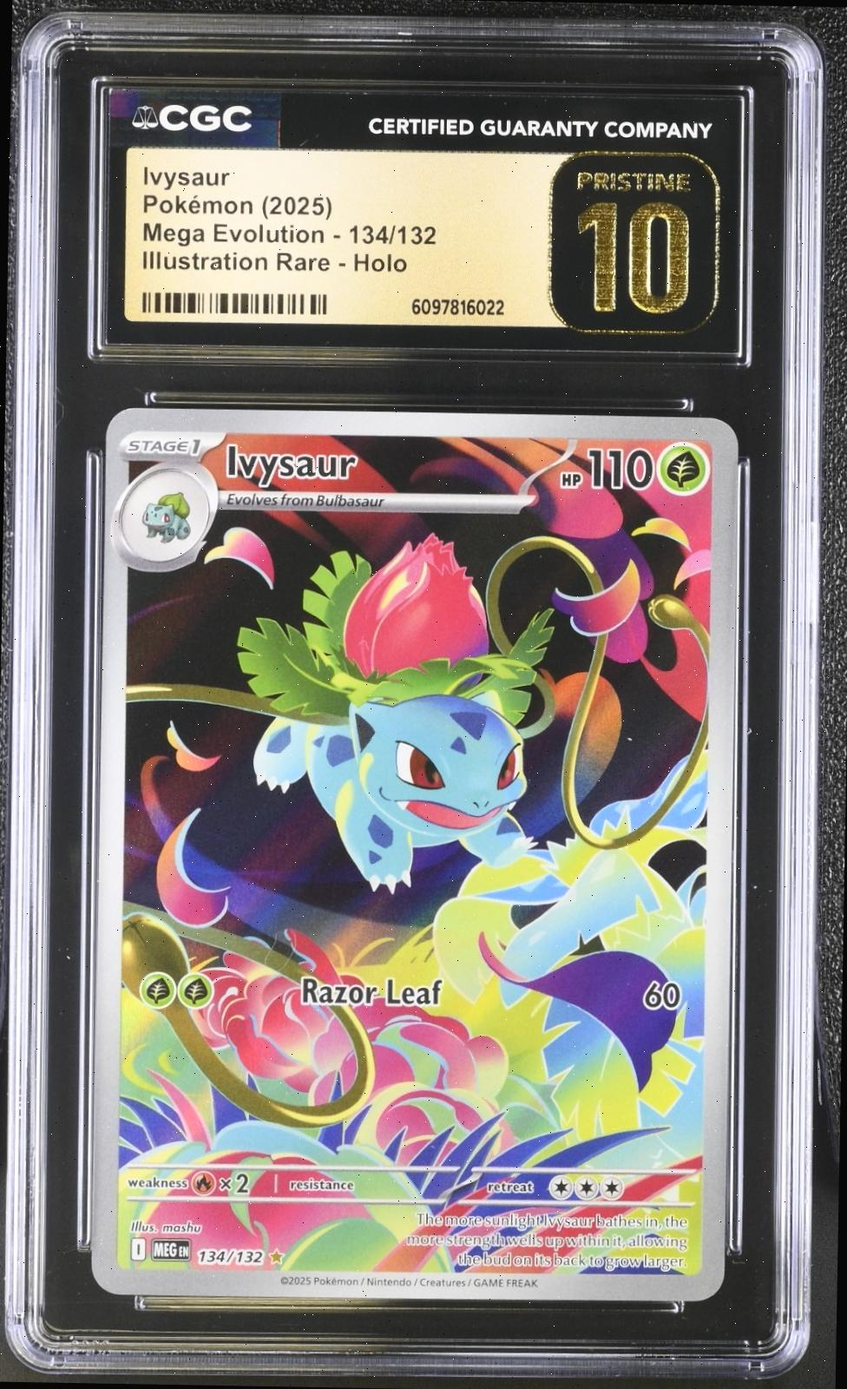card-2UtV: (90, 407, 739, 1302)
